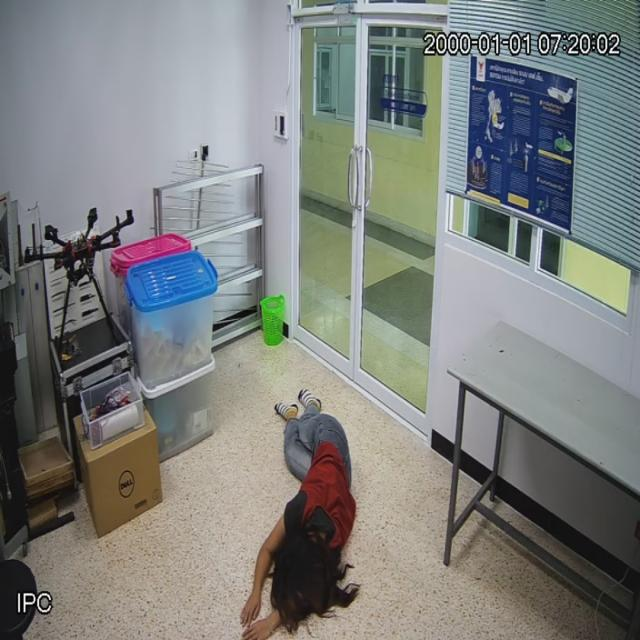fall: (224, 376, 377, 640)
